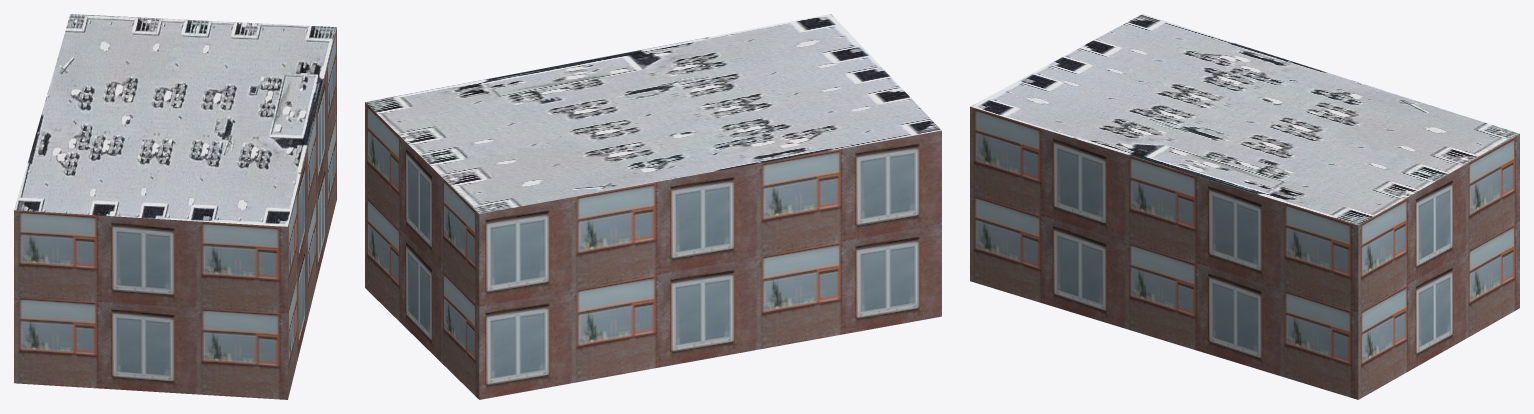
The model's file is ResTex__1972.fbx.
The picture shows the model from 3 angles, left to right: view 1: azimuth 30°, elevation 25°; view 2: azimuth 150°, elevation 25°; view 3: azimuth 270°, elevation 25°; orthographic projection. The views are drawn at different scales.
Visible parts, largest first — view 1: CityEngineMaterial_19_m, CityEngineMaterial_15_m; view 2: CityEngineMaterial_19_m, CityEngineMaterial_15_m; view 3: CityEngineMaterial_19_m, CityEngineMaterial_15_m.
Part boxes in pixels (x1,y1,x2,y2): CityEngineMaterial_19_m: [14, 27, 336, 399]; CityEngineMaterial_15_m: [14, 14, 336, 226]; CityEngineMaterial_19_m: [365, 102, 941, 399]; CityEngineMaterial_15_m: [365, 14, 941, 213]; CityEngineMaterial_19_m: [970, 106, 1519, 399]; CityEngineMaterial_15_m: [970, 14, 1519, 225].
Size of the model in its own units: 15.59 by 6 by 17.13.
Materials: 2 (2 with a texture image).
